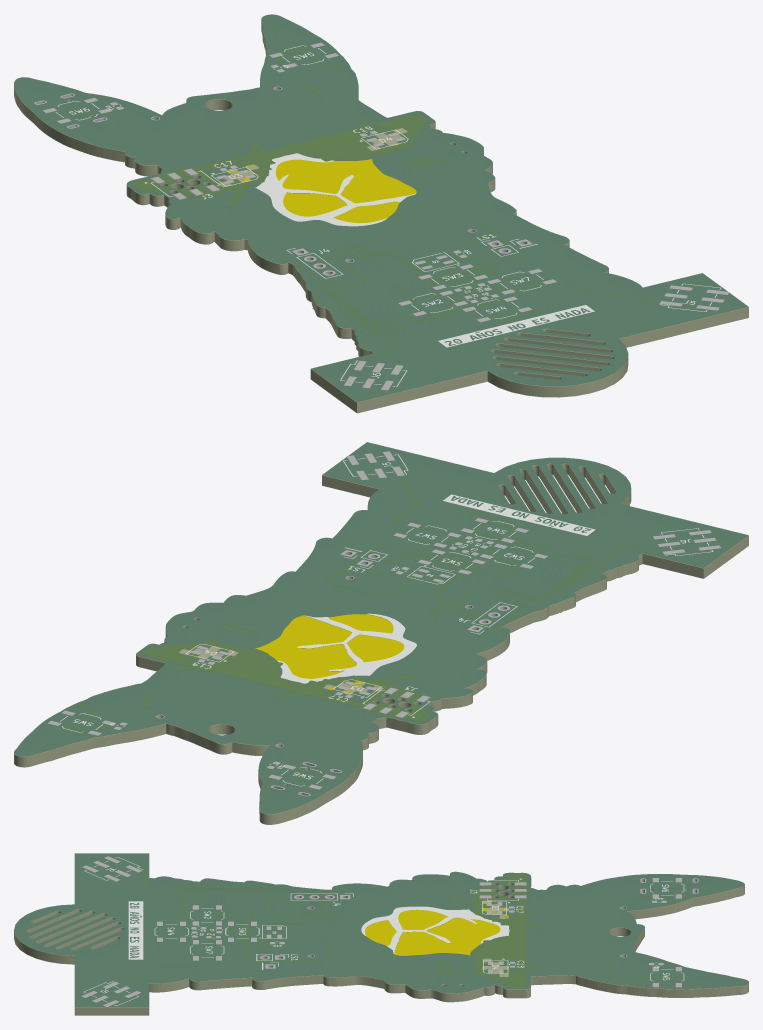
The model's file is ekoparty-2024-official-badge.glb.
The picture shows the model from 3 angles, top to bottom: view 1: azimuth 30°, elevation 25°; view 2: azimuth 150°, elevation 25°; view 3: azimuth 270°, elevation 25°; orthographic projection. The views are drawn at different scales.
Parts seen in each view (by area): view 1: =>[0:1:1:7], =>[0:1:1:9], =>[0:1:1:2], =>[0:1:1:5]; view 2: =>[0:1:1:7], =>[0:1:1:9], =>[0:1:1:2], =>[0:1:1:5]; view 3: =>[0:1:1:7], =>[0:1:1:9], =>[0:1:1:2], =>[0:1:1:5].
Part boxes in pixels (x1=…): =>[0:1:1:7]: x1=14, y1=14, x2=748, y2=413; =>[0:1:1:9]: x1=14, y1=15, x2=748, y2=412; =>[0:1:1:2]: x1=34, y1=29, x2=729, y2=390; =>[0:1:1:5]: x1=24, y1=45, x2=721, y2=397; =>[0:1:1:7]: x1=14, y1=442, x2=748, y2=824; =>[0:1:1:9]: x1=14, y1=443, x2=748, y2=824; =>[0:1:1:2]: x1=42, y1=451, x2=720, y2=796; =>[0:1:1:5]: x1=60, y1=454, x2=713, y2=796; =>[0:1:1:7]: x1=14, y1=853, x2=748, y2=1015; =>[0:1:1:9]: x1=14, y1=854, x2=748, y2=1015; =>[0:1:1:2]: x1=81, y1=856, x2=722, y2=1007; =>[0:1:1:5]: x1=19, y1=857, x2=684, y2=1006.
Size of the model in its own units: 0.0601 by 0.00166 by 0.1213.
4 materials, 4 textured.
